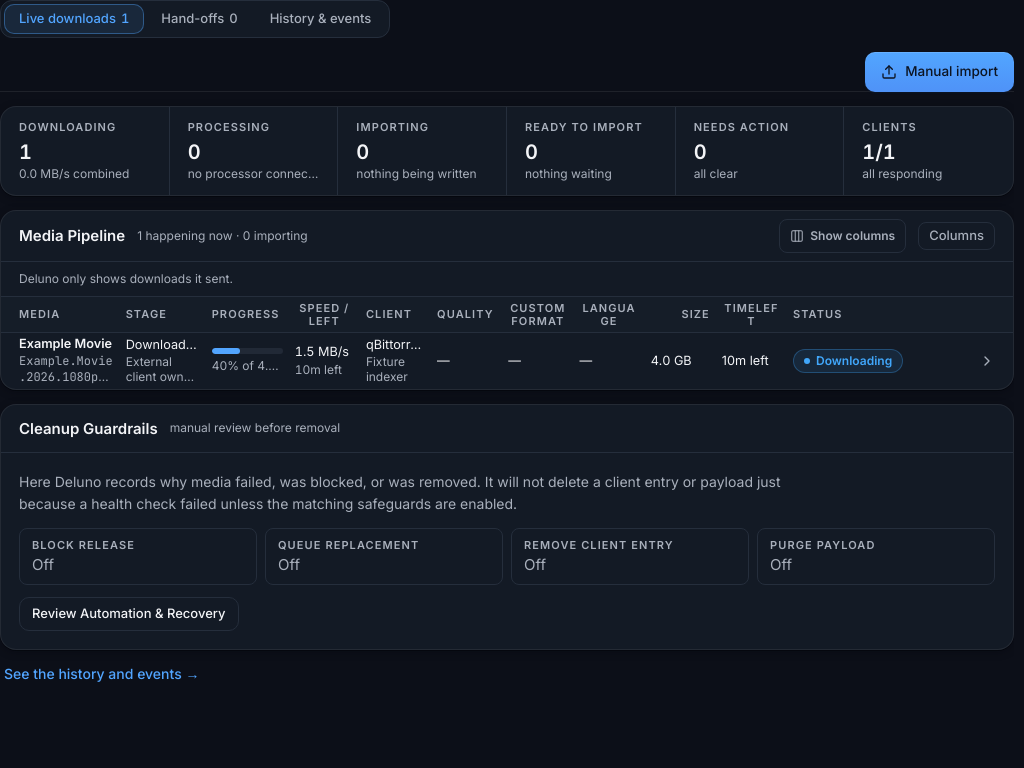
it: download drawer: header › the drawer title is the title and the description reads '<client> - <status>'
The width and height of the screenshot is (1024, 768).
Click the text "Example.Movie.2026.1080p.WEB-DL-GROUP" at {"x": 507, "y": 360}, box [1, 332, 1013, 388]
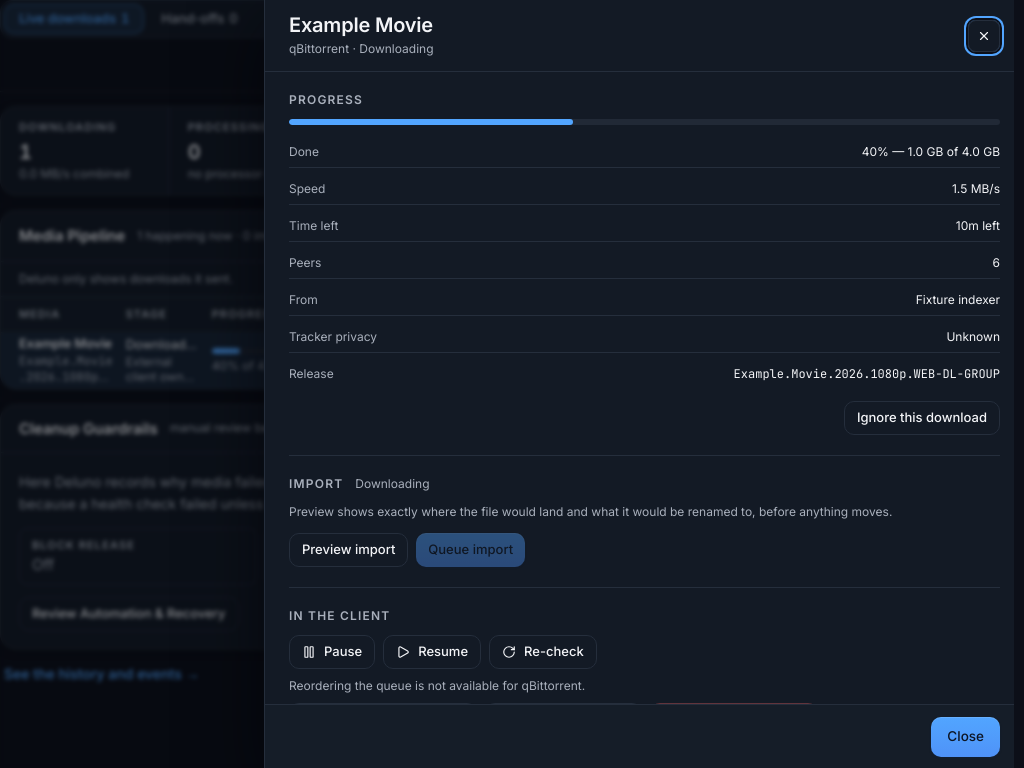
Expected: the heading "Example Movie" is shown, [289, 13, 434, 38]
Expected: the text "qBittorrent · Downloading" is shown, [289, 40, 434, 58]
